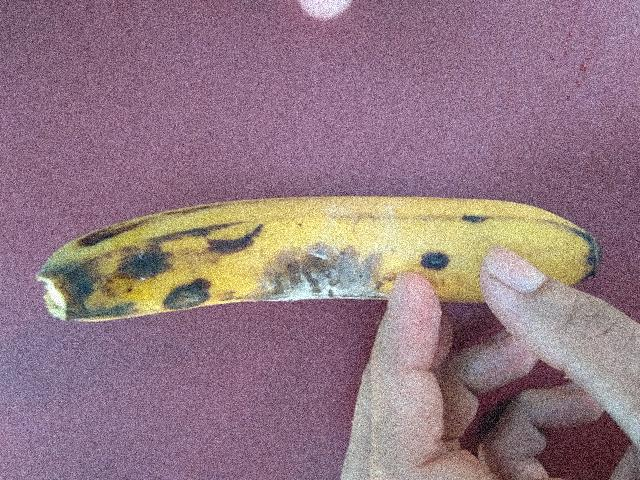ripe: (20, 161, 612, 325)
rotten: (243, 217, 401, 324)
